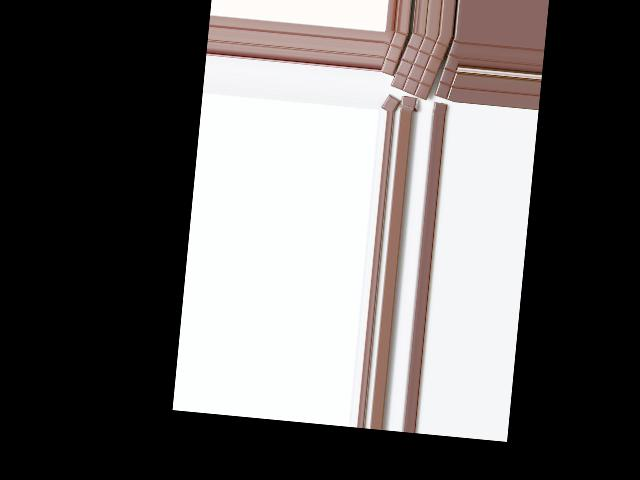chocolate: (388, 30, 450, 100)
